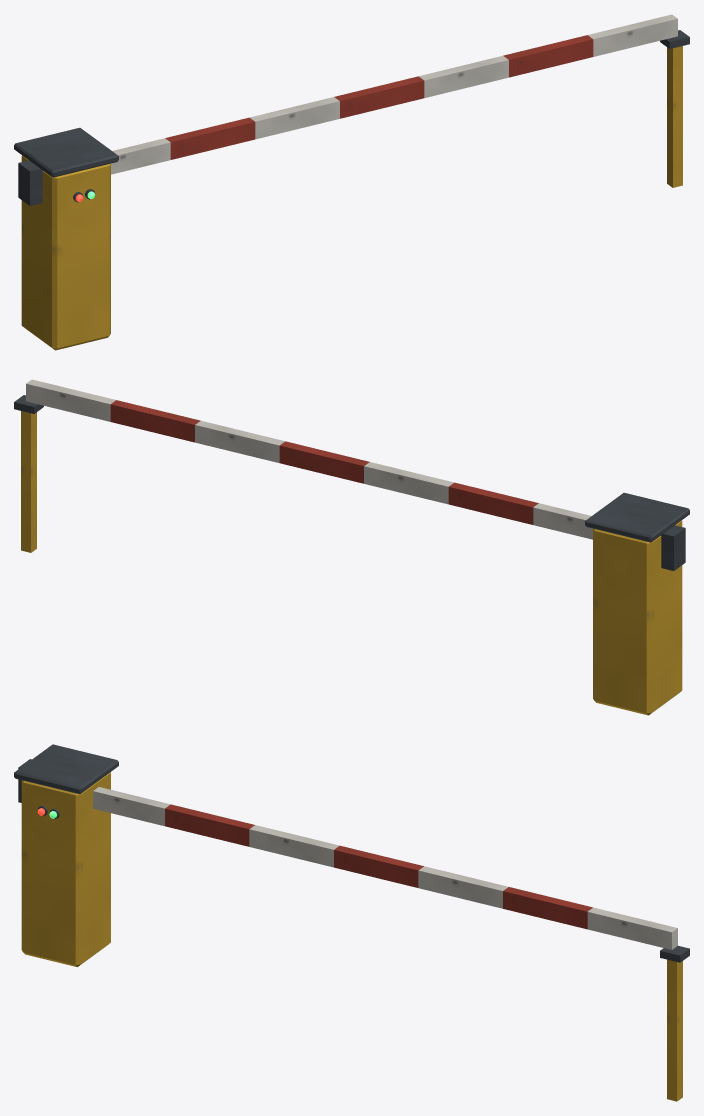
Rendered from barrier_arm.fbx.
3 renders of one model, top to bottom at view 1: azimuth 30°, elevation 25°; view 2: azimuth 150°, elevation 25°; view 3: azimuth 330°, elevation 25°, orthographic.
Visible parts, largest first — view 1: barrier_arm, barrier_arm_arm, barrier_arm_rest; view 2: barrier_arm, barrier_arm_arm, barrier_arm_rest; view 3: barrier_arm, barrier_arm_arm, barrier_arm_rest.
Part boxes in pixels (x1,y1,x2,y2): barrier_arm: [14, 127, 118, 350]; barrier_arm_arm: [18, 14, 677, 205]; barrier_arm_rest: [660, 30, 689, 187]; barrier_arm: [585, 492, 689, 715]; barrier_arm_arm: [26, 379, 685, 570]; barrier_arm_rest: [14, 395, 43, 552]; barrier_arm: [14, 744, 118, 967]; barrier_arm_arm: [18, 759, 677, 949]; barrier_arm_rest: [660, 945, 689, 1101].
Size of the model in its own units: 3.91 by 1.04 by 0.414.
Materials: 1 (1 with a texture image).
